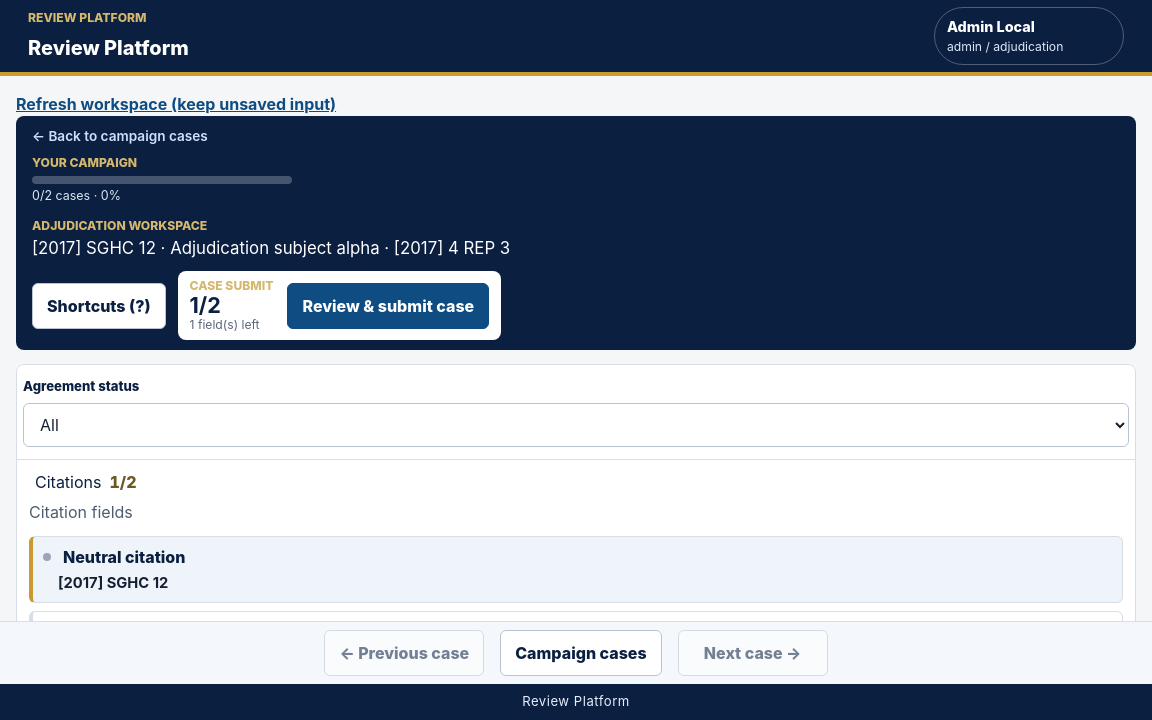
Scenario: adjudication workflows › filters fields by agreement status and keeps the filter available in an empty state
Expected: the button "Neutral citation [2017] SGHC 12" is shown, [29,536,1123,603]
Select "Disagreement" in the dropdown labelled "Agreement status" at [576, 425], box [23,403,1129,447]
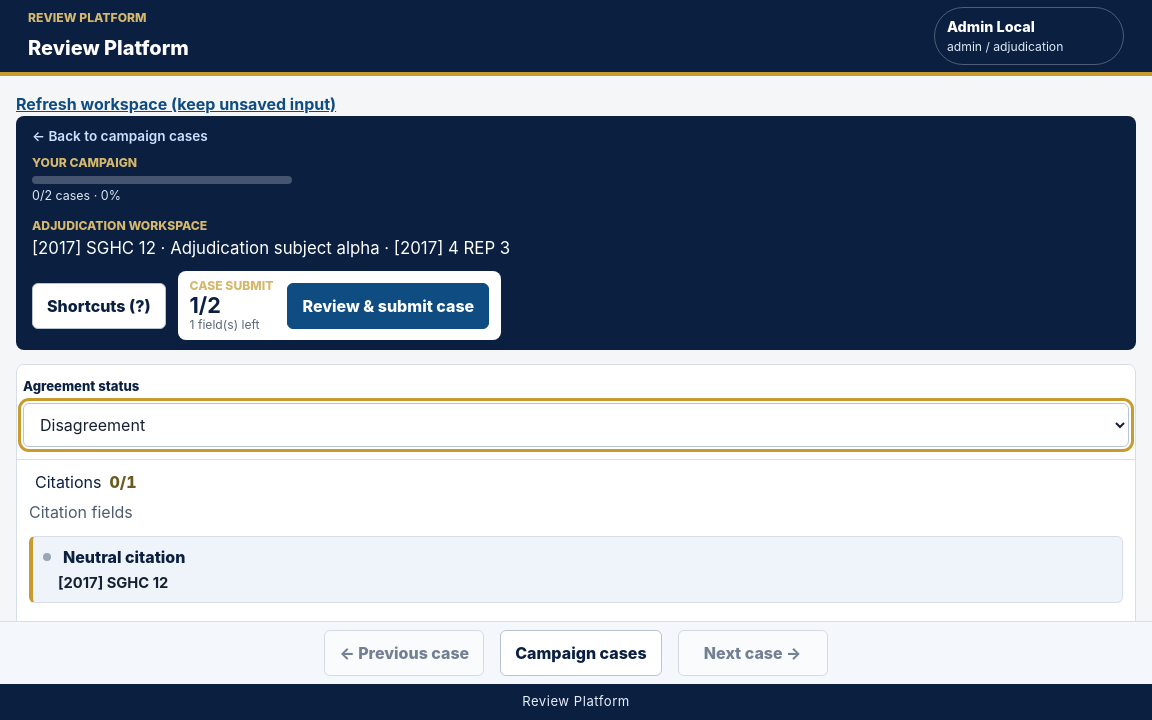
Expected: the button "Neutral citation [2017] SGHC 12" is shown, [29,536,1123,603]
Expected: the button "reported citation" is not shown
Select "Positive agreement" in the dropdown labelled "Agreement status" at [576, 425], box [23,403,1129,447]
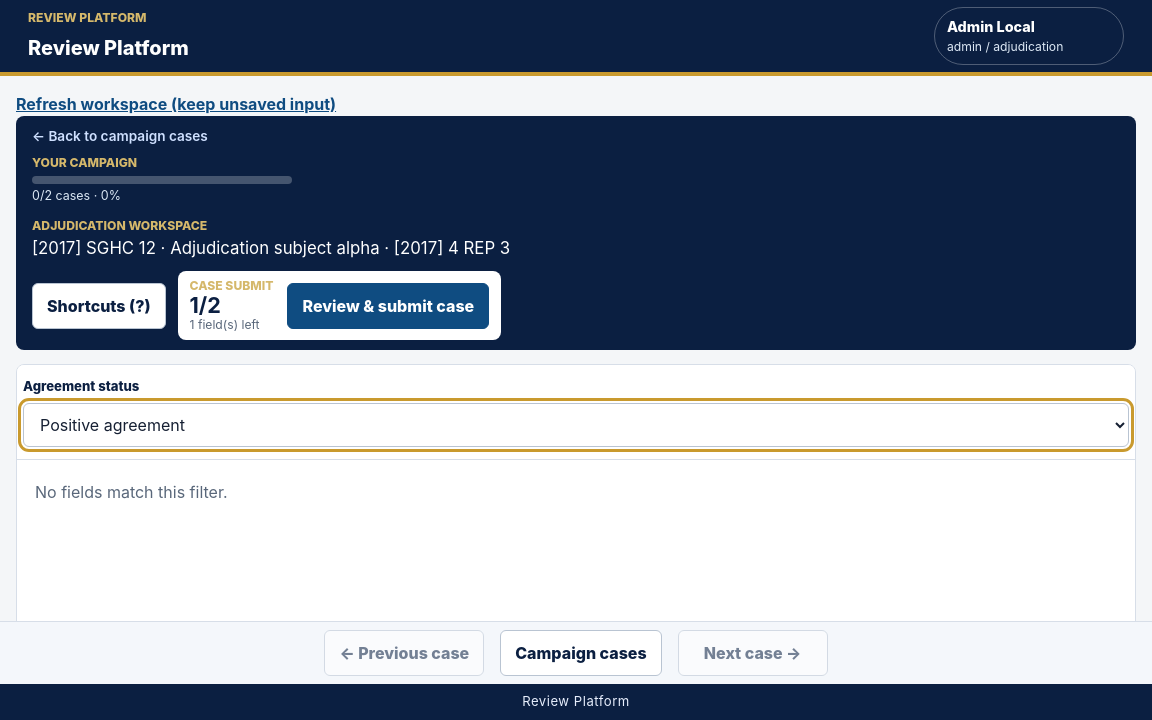
Expected: the text "No fields match this filter." is shown, [35,482,228,502]
Select "All" in the dropdown labelled "Agreement status" at [576, 425], box [23,403,1129,447]
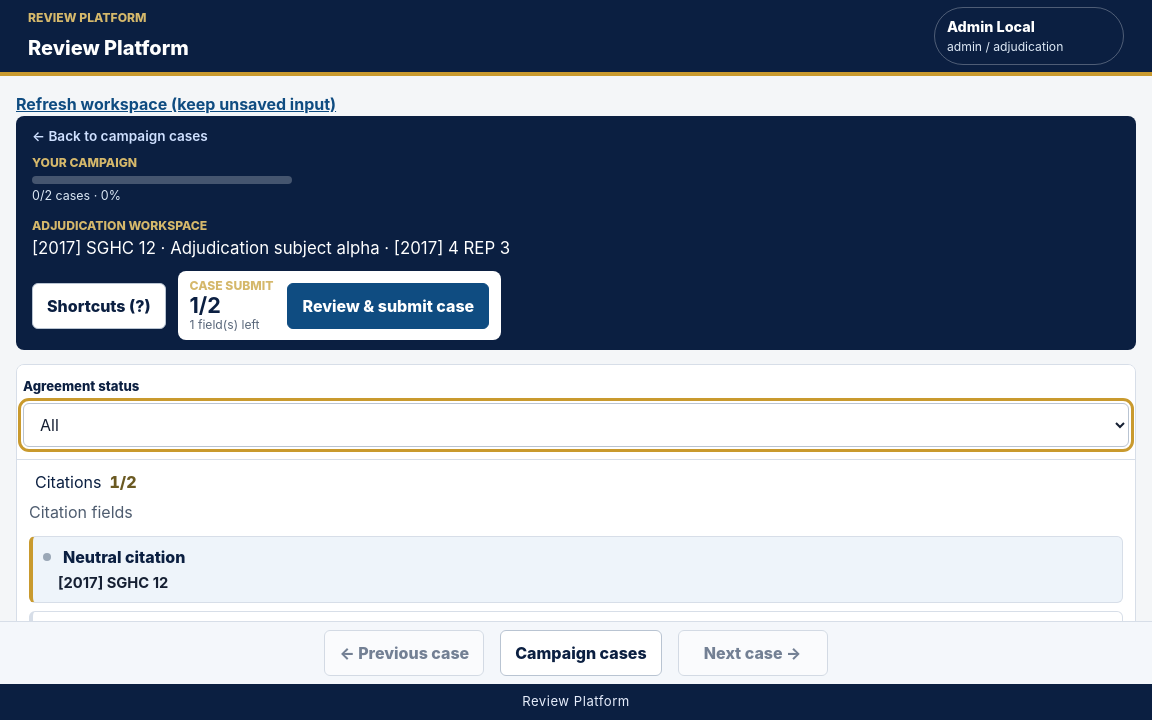
Expected: the button "Neutral citation [2017] SGHC 12" is shown, [29,536,1123,603]
